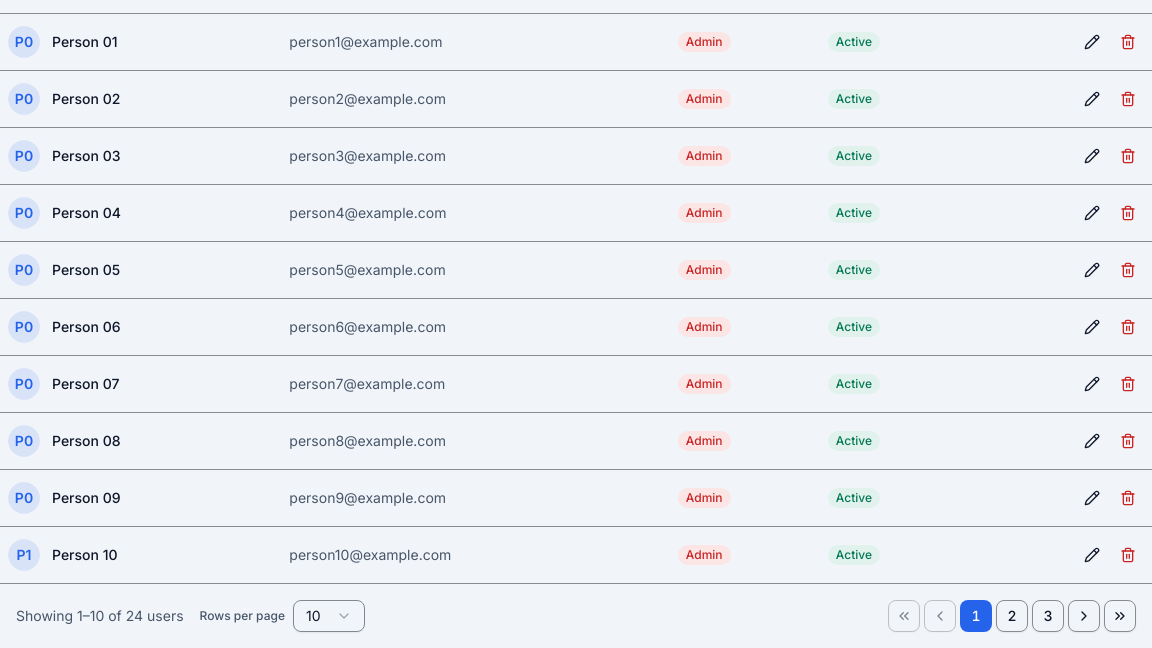
it: <UserTable> › shows more rows per page when asked, and starts that size at page 1
The image size is (1152, 648).
(page scrolled)
Click the button named "Go to page 3" at [1048, 616], box [1032,600,1064,632]
(page scrolled)
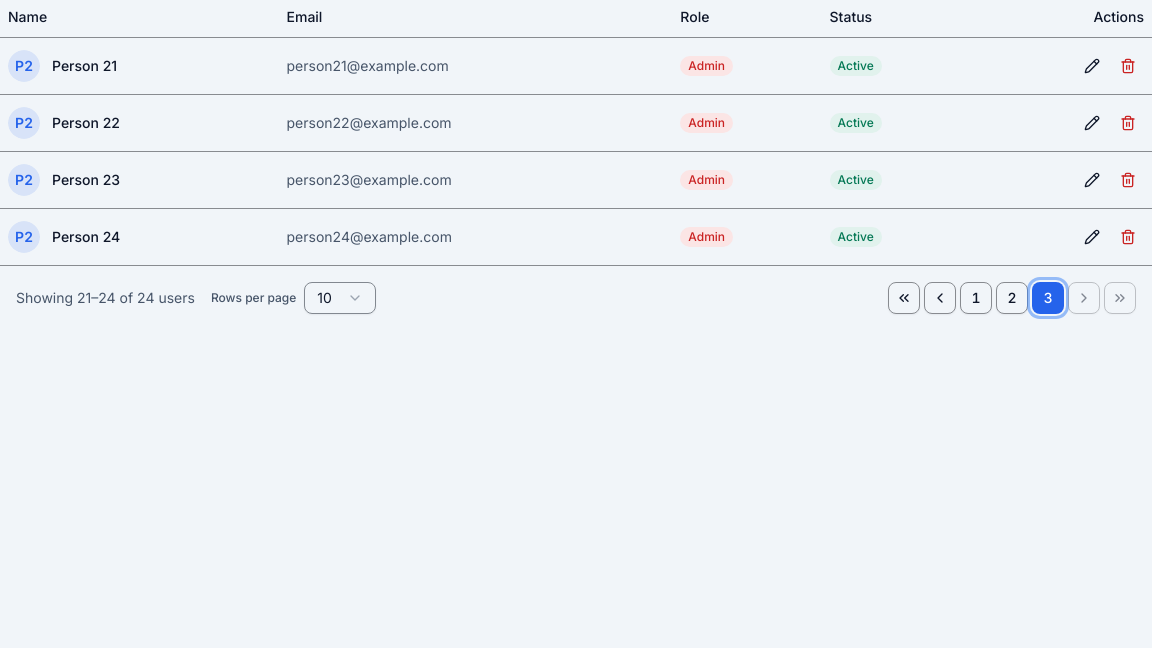
Click the dropdown named "Rows per page" at [340, 298], box [304,282,376,314]
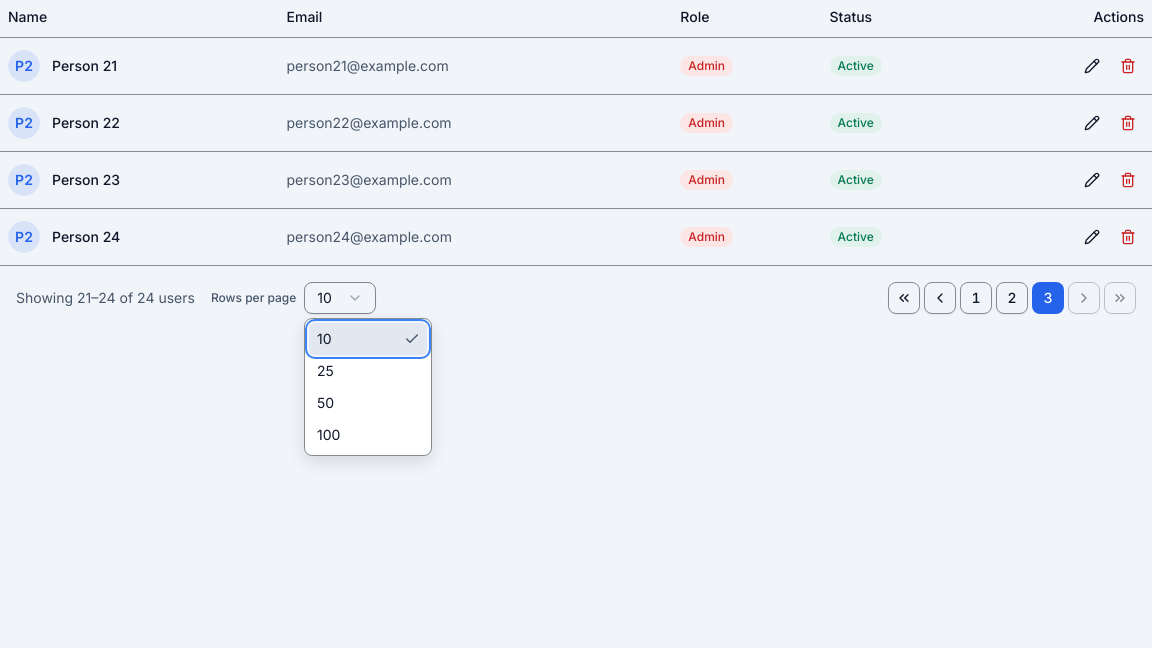
Click the option "25" at [325, 370], box [317,362,334,379]
(page scrolled)
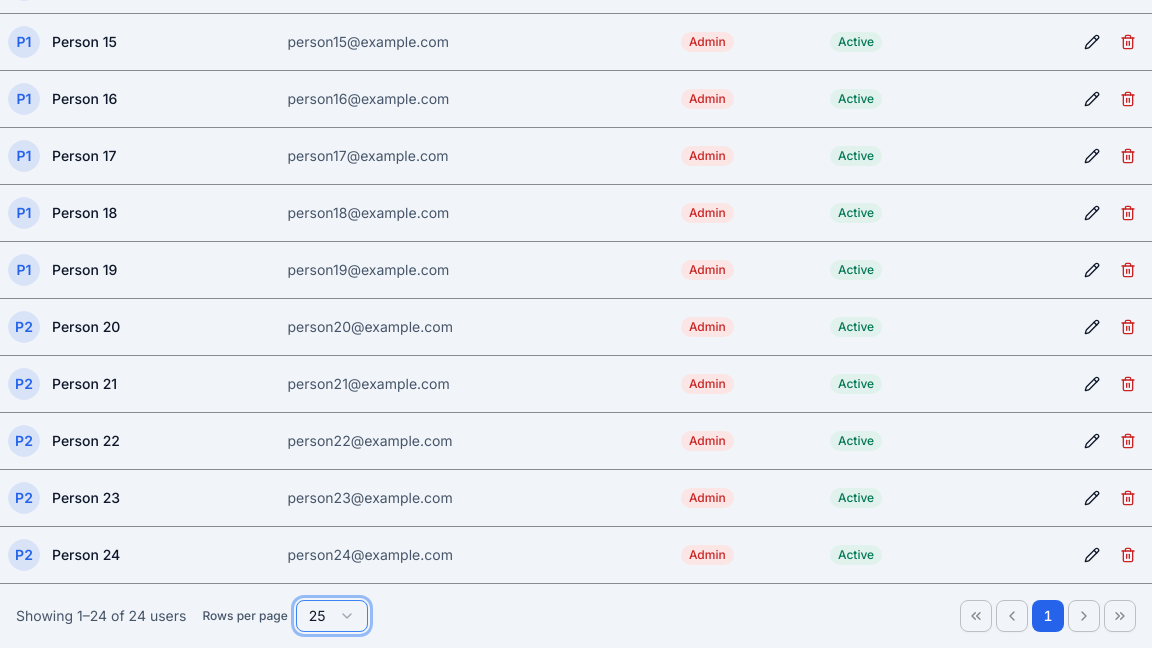
Check: the text "Person 24" is shown, box [52,544,120,564]
Check: the message reads "Showing 1–24 of 24 users", box [16,606,186,626]
